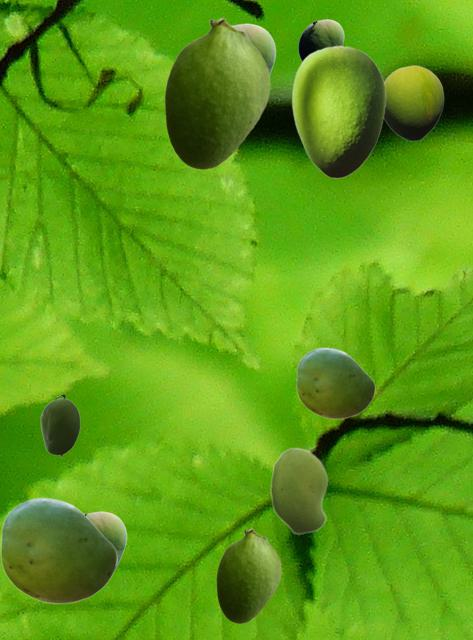green_mango: (164, 17, 269, 168), (291, 45, 385, 177), (0, 497, 116, 603), (216, 528, 280, 622), (296, 347, 374, 418), (270, 447, 327, 534), (384, 65, 443, 140), (85, 511, 126, 571), (40, 395, 79, 457), (233, 23, 275, 75), (298, 19, 343, 60)
